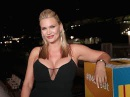female: (33, 13, 68, 47)
